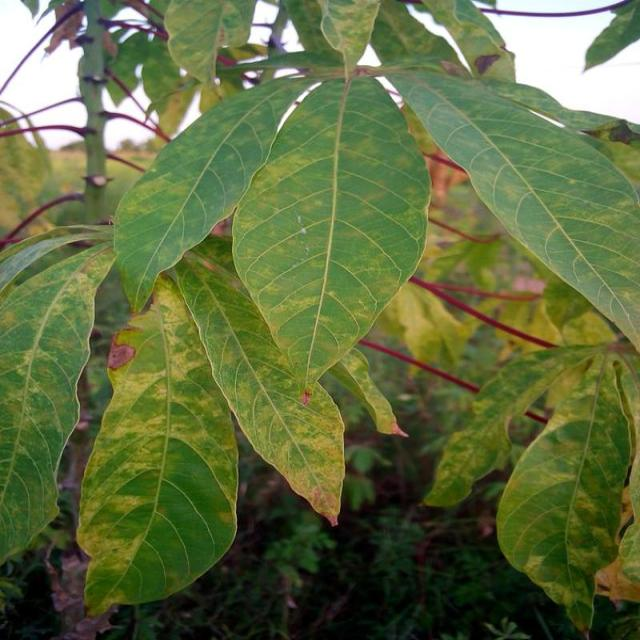cassava leaf: (384, 62, 640, 353), (231, 72, 433, 396), (76, 274, 240, 617), (168, 232, 347, 527), (113, 69, 322, 314), (1, 230, 118, 566), (496, 351, 635, 631)
